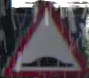Speed Breaker ahead: (4, 4, 86, 77)
